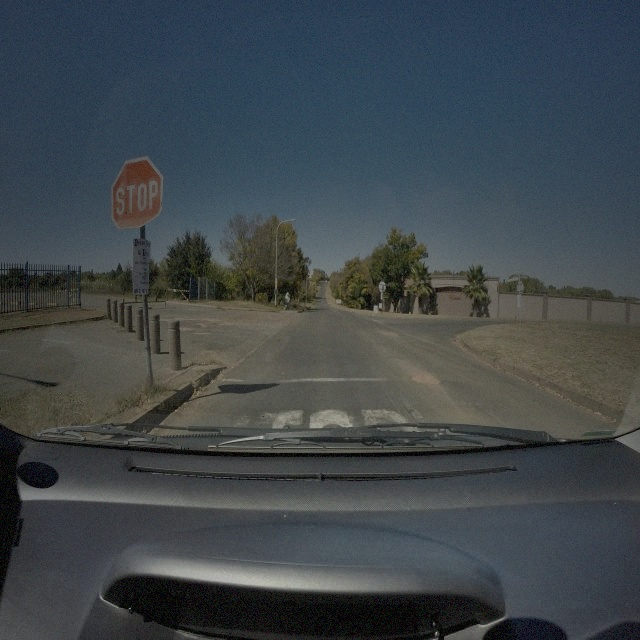pothole: (409, 370, 442, 386), (237, 314, 262, 324), (379, 329, 399, 338), (192, 338, 210, 348), (190, 328, 205, 334)
